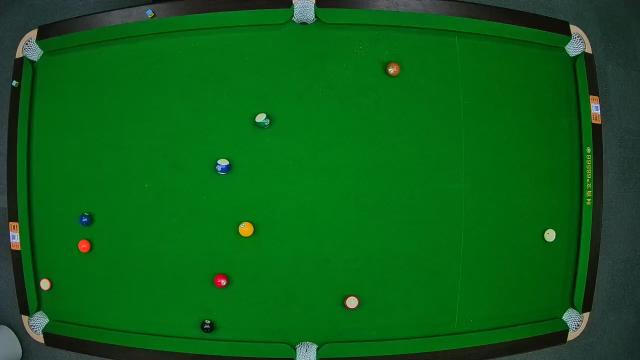bag1: (22, 40, 42, 62)
bag2: (293, 1, 317, 23)
bag3: (564, 34, 586, 57)
bag4: (28, 311, 48, 335)
bag5: (294, 342, 318, 360)
bag6: (562, 308, 584, 332)
ball0: (542, 226, 558, 242)
ball1: (238, 222, 254, 238)
ball10: (216, 158, 232, 176)
ball11: (344, 295, 360, 309)
ball12: (38, 278, 54, 290)
ball14: (256, 112, 270, 130)
ball2: (78, 212, 94, 226)
ball3: (213, 273, 229, 289)
ball5: (76, 240, 92, 252)
ball7: (386, 63, 402, 77)
ball8: (200, 318, 216, 334)
